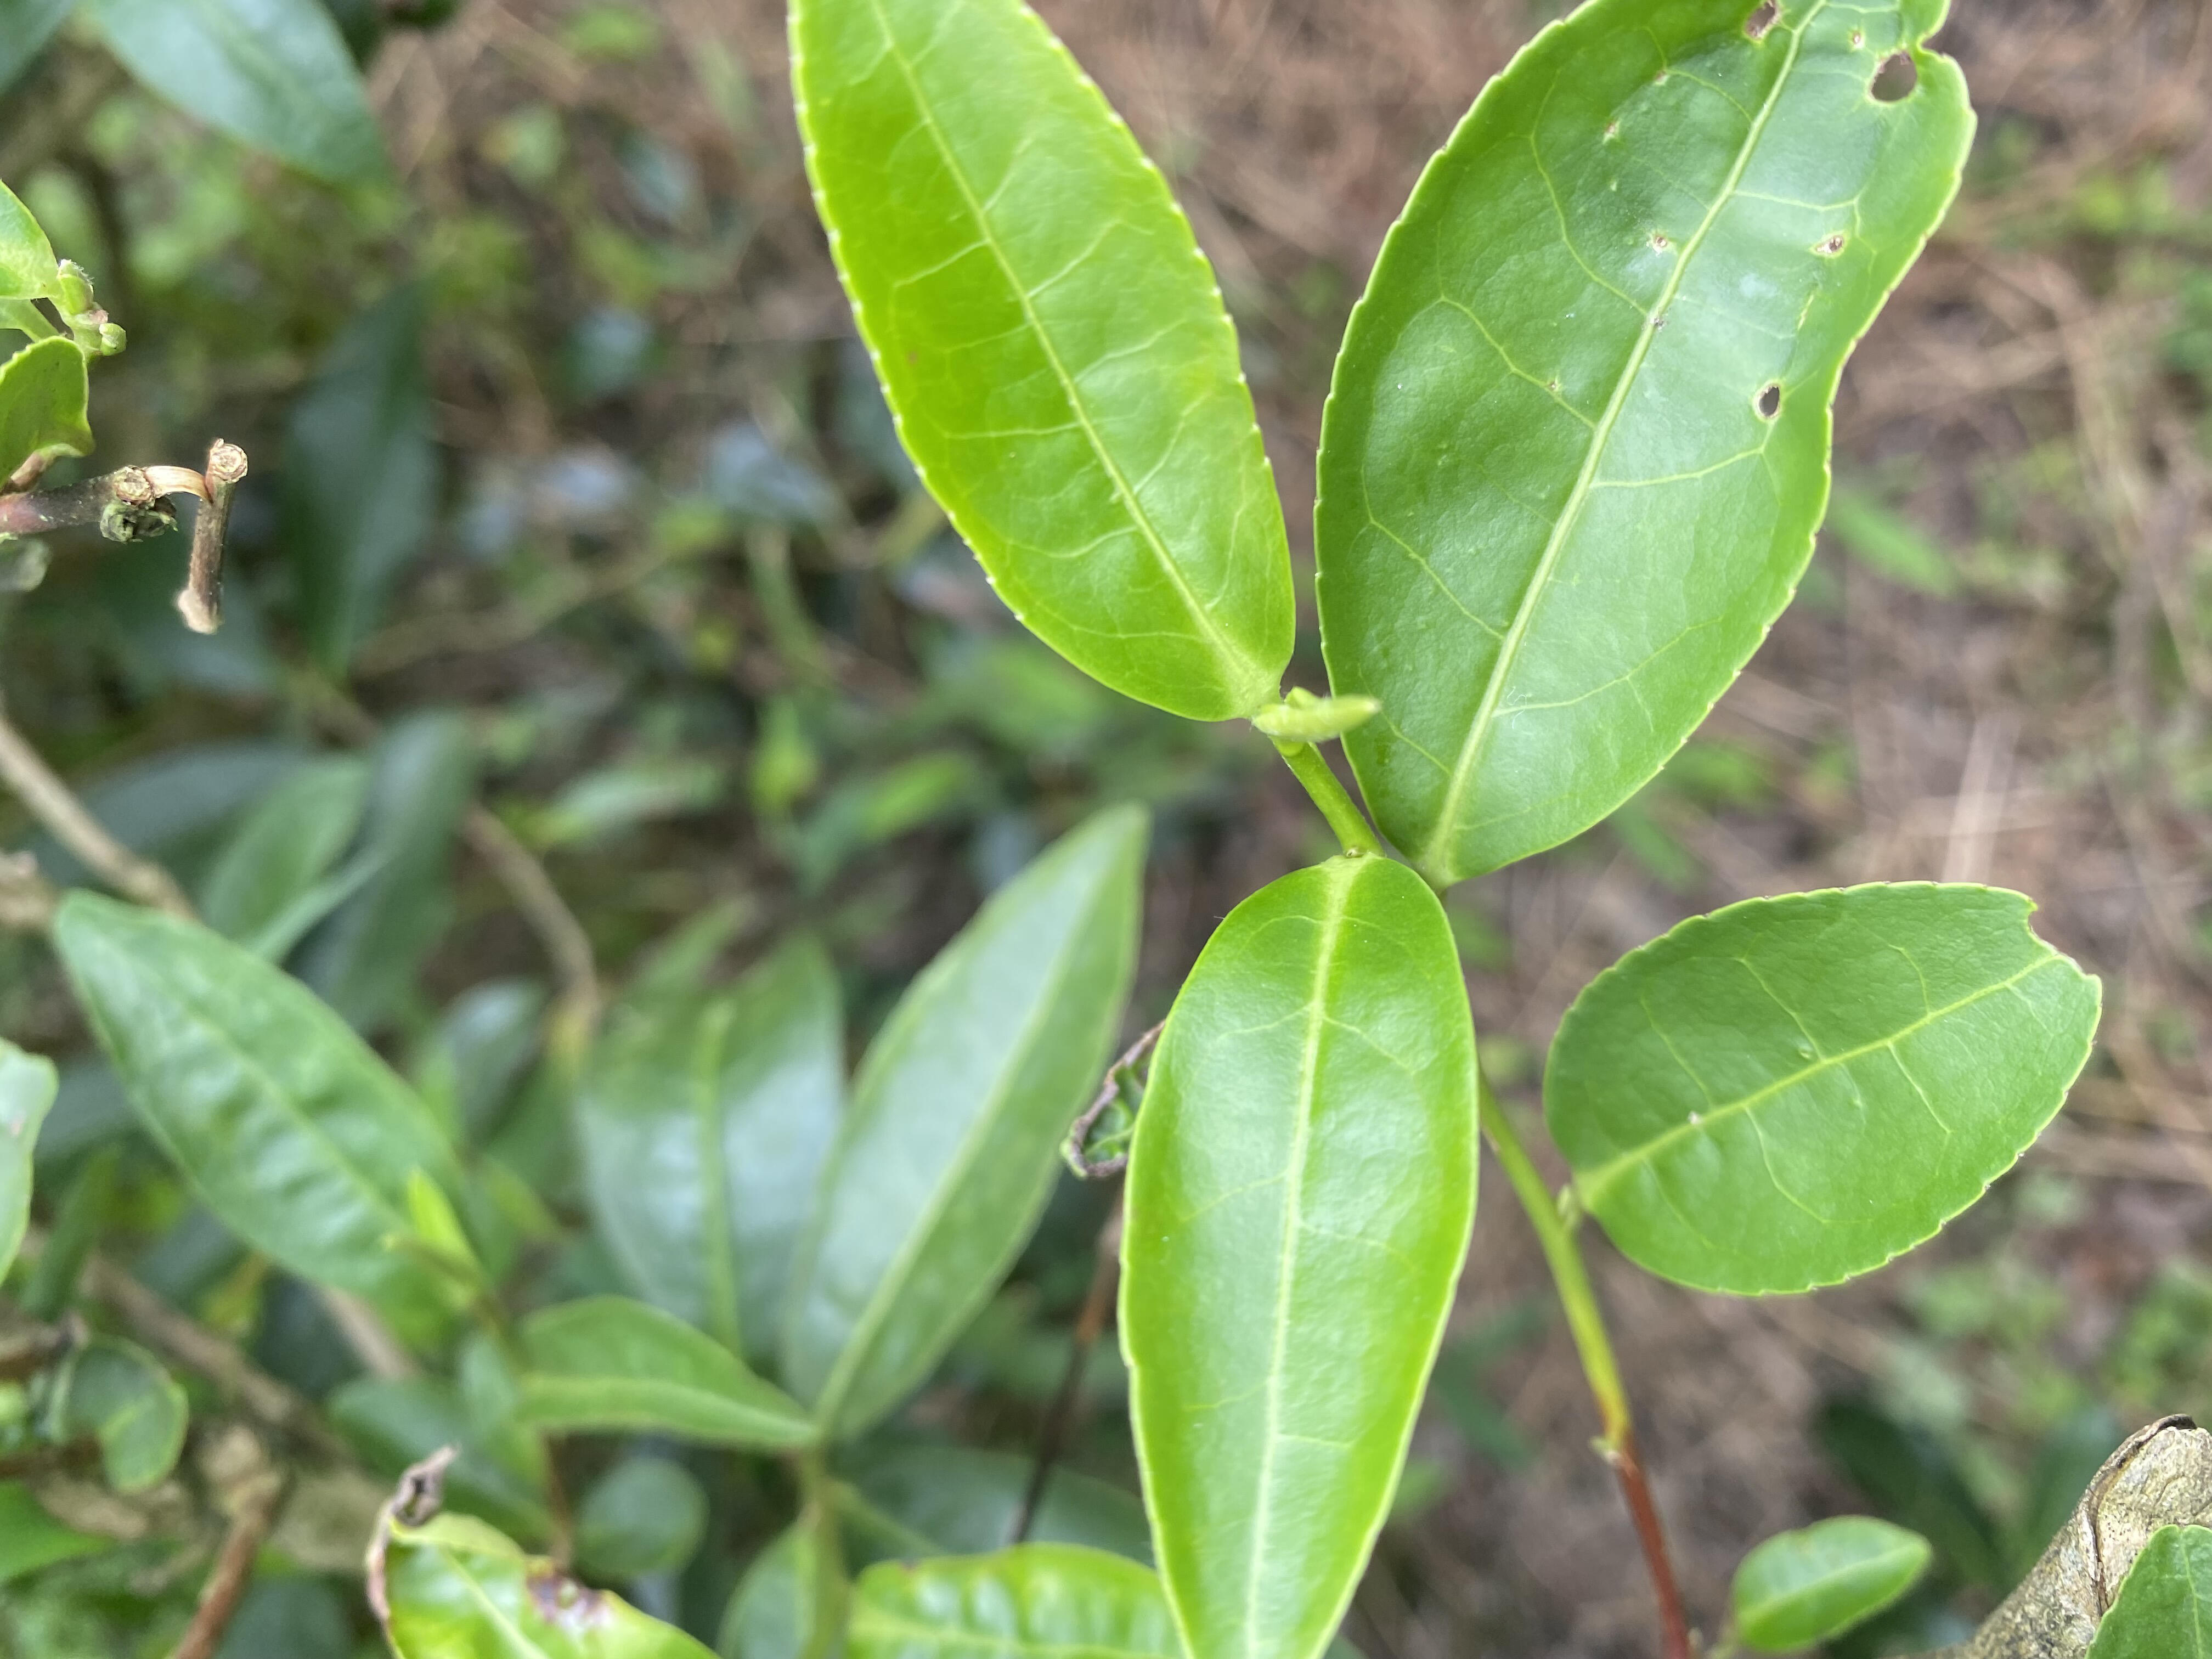chihuo_high: (1315, 3, 1977, 885)
chihuo_low: (1541, 880, 2107, 1298)
healthy: (787, 3, 1299, 723), (1118, 849, 1482, 1657)
tanju_high: (361, 1439, 723, 1656)
